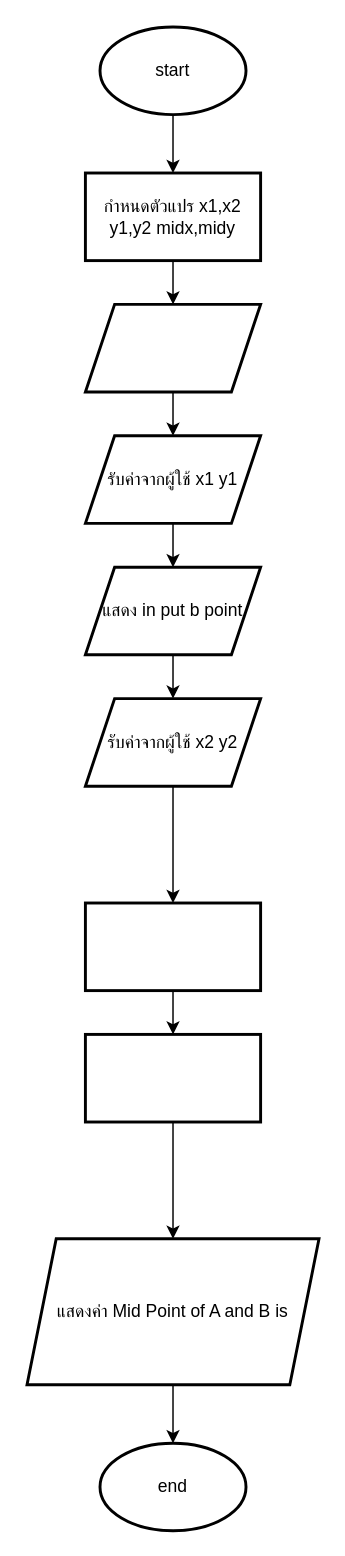
This 345x1556 diagram has some shape labels left out. Each missing label, with the centre of its shape:
คำนวนค่าจุกกลางสูตร (x1 + x2) / 2: (x=172, y=946)
คำนวนค่าจุกกลางสูตร (y1 + y2) / 2: (x=172, y=1077)
แสดง in put a point: (x=172, y=347)
